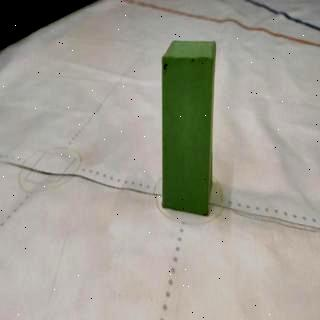greenbox: (162, 40, 218, 217)
